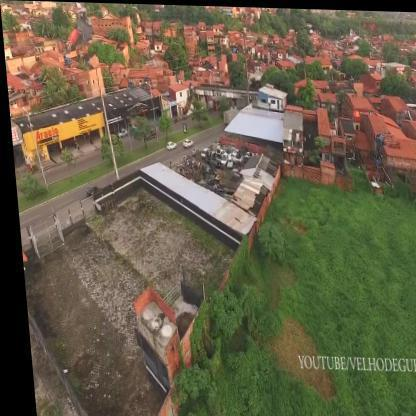lixo: (177, 148, 221, 187), (206, 138, 243, 171)
